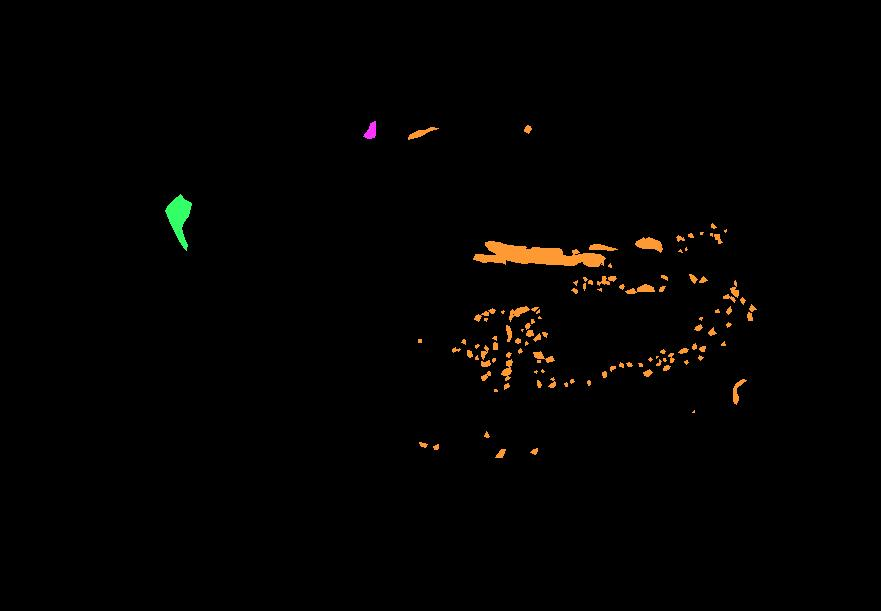Broken part: (165, 194, 191, 250)
Dent: (363, 121, 375, 138)
Paint chip: (473, 241, 605, 266), (635, 237, 662, 252), (408, 127, 438, 139), (733, 379, 746, 404), (589, 244, 617, 250), (514, 306, 529, 316), (637, 284, 654, 291), (495, 449, 505, 457), (506, 325, 511, 341), (501, 367, 511, 375), (533, 351, 544, 358), (689, 274, 697, 283), (714, 234, 722, 243), (708, 327, 716, 335), (643, 369, 652, 376), (524, 125, 531, 133), (533, 333, 540, 341), (625, 288, 636, 293), (545, 356, 554, 362), (481, 360, 490, 366), (678, 348, 688, 353), (474, 314, 481, 321), (731, 290, 738, 297), (699, 276, 707, 282), (481, 351, 487, 359), (694, 324, 702, 330), (530, 448, 537, 454), (526, 330, 533, 336), (548, 381, 555, 387), (506, 359, 512, 366), (726, 306, 731, 314), (419, 442, 427, 447), (747, 312, 752, 320), (481, 374, 487, 380), (572, 249, 579, 254), (740, 297, 745, 304), (467, 350, 472, 357), (663, 365, 670, 370), (488, 308, 495, 313), (509, 314, 514, 321), (661, 275, 667, 280), (659, 286, 665, 291), (484, 431, 489, 437), (699, 346, 705, 351), (525, 323, 530, 329), (504, 383, 509, 389), (571, 288, 577, 293), (730, 296, 735, 302), (481, 311, 488, 315), (531, 307, 538, 311), (493, 342, 497, 349), (537, 380, 541, 387), (751, 304, 756, 309), (726, 322, 731, 327), (433, 444, 438, 449), (506, 352, 511, 357), (698, 355, 703, 360), (610, 366, 615, 371), (542, 332, 547, 337), (515, 338, 520, 343), (711, 223, 716, 228), (611, 276, 616, 281), (619, 284, 624, 289), (484, 345, 488, 351), (692, 343, 696, 349), (626, 362, 632, 366), (602, 371, 606, 377), (723, 294, 729, 298), (573, 280, 577, 285), (452, 347, 456, 352), (461, 339, 465, 344), (510, 309, 514, 314), (670, 357, 674, 362), (518, 348, 522, 353), (505, 376, 510, 380), (688, 233, 693, 237), (660, 349, 665, 353), (619, 362, 623, 367), (749, 306, 753, 311), (730, 287, 735, 291), (684, 360, 688, 364), (492, 336, 496, 340), (475, 344, 479, 348), (721, 341, 725, 345), (648, 357, 652, 361), (583, 277, 587, 281), (588, 280, 592, 284), (602, 276, 606, 280), (570, 379, 574, 383), (668, 353, 673, 356), (676, 235, 681, 238), (587, 380, 590, 385), (583, 283, 585, 290), (678, 249, 682, 252), (597, 288, 601, 291), (531, 319, 534, 323), (536, 309, 539, 313), (525, 341, 528, 345), (492, 358, 495, 362), (475, 355, 478, 359), (487, 371, 490, 375), (715, 309, 719, 312), (638, 363, 642, 366), (597, 281, 600, 285), (608, 263, 611, 267), (608, 276, 611, 280), (605, 281, 609, 284), (601, 280, 604, 284), (550, 377, 554, 380), (564, 382, 567, 386), (734, 280, 736, 286), (457, 348, 460, 351), (501, 310, 504, 313), (484, 318, 487, 321), (681, 237, 684, 240), (677, 238, 680, 241), (663, 358, 666, 361), (418, 339, 421, 342), (541, 369, 544, 372), (534, 370, 537, 373), (699, 317, 702, 320), (601, 261, 603, 265), (656, 363, 660, 365), (659, 359, 661, 363), (538, 316, 541, 318), (494, 389, 497, 391), (724, 229, 726, 232), (710, 233, 712, 236), (700, 232, 703, 234), (685, 247, 687, 250), (537, 360, 540, 362), (692, 410, 694, 412), (521, 329, 523, 331), (656, 356, 658, 358)
